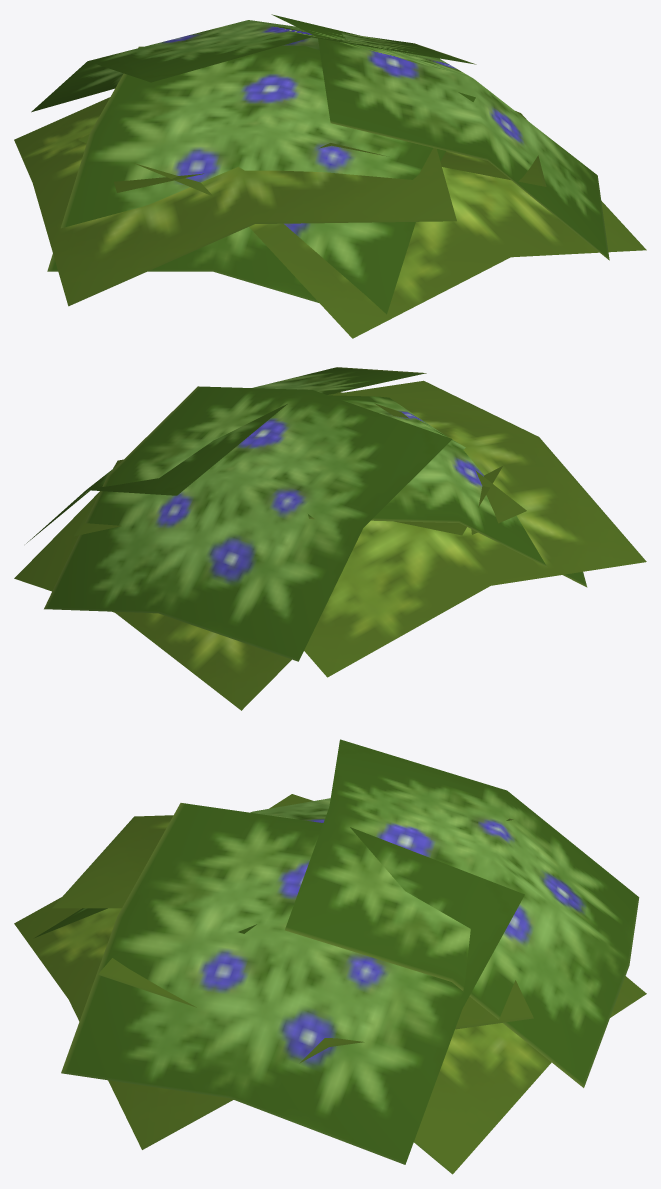
Rendered from Green_flora_13.FBX.
3 views of the same model, one above another, from view 1: azimuth 30°, elevation 25°; view 2: azimuth 150°, elevation 25°; view 3: azimuth 270°, elevation 25° (orthographic). The views are drawn at different scales.
Visible parts, largest first — view 1: Green_flora_13; view 2: Green_flora_13; view 3: Green_flora_13.
Boxes of the visible parts, box(x1,y1,x2,y2) form: Green_flora_13: box(14, 14, 646, 338); Green_flora_13: box(14, 367, 646, 710); Green_flora_13: box(14, 739, 646, 1174).
Size of the model in its own units: 193 by 71.41 by 175.
